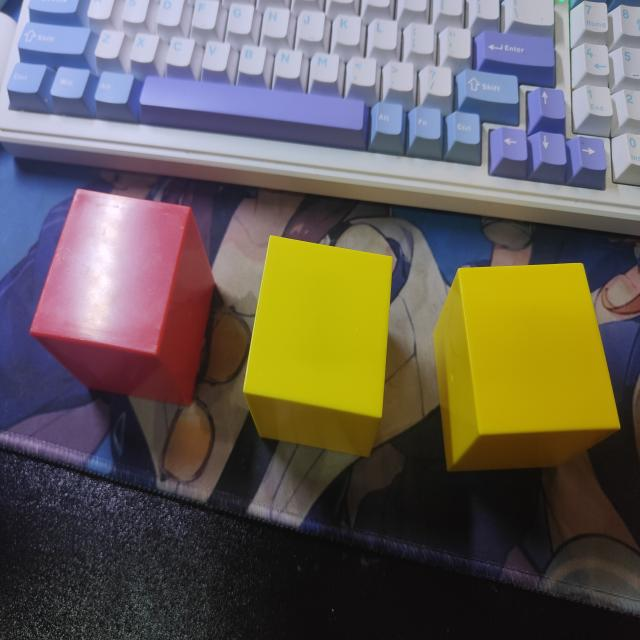red: (28, 190, 216, 411)
yellow: (433, 262, 621, 476), (243, 237, 394, 458)
